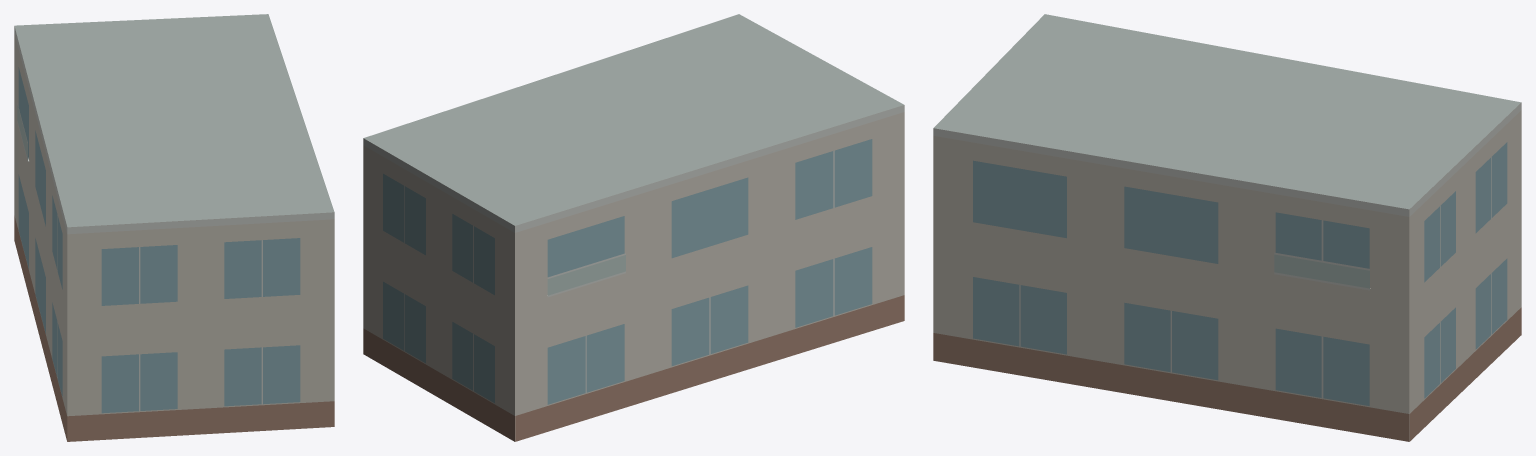
The model's file is survey-upis-32723220.glb.
3 renders of one model, left to right at view 1: azimuth 30°, elevation 25°; view 2: azimuth 150°, elevation 25°; view 3: azimuth 270°, elevation 25°, orthographic. The views are drawn at different scales.
Parts seen in each view (by area): view 1: survey-upis-32723220.tmp; view 2: survey-upis-32723220.tmp; view 3: survey-upis-32723220.tmp.
Boxes of the visible parts, x1,y1,x2,y2 form: survey-upis-32723220.tmp: (14, 14, 334, 441); survey-upis-32723220.tmp: (363, 14, 904, 441); survey-upis-32723220.tmp: (933, 14, 1521, 441).
Bounding box in the file's own units: 13.53 × 7.5 × 17.21.
